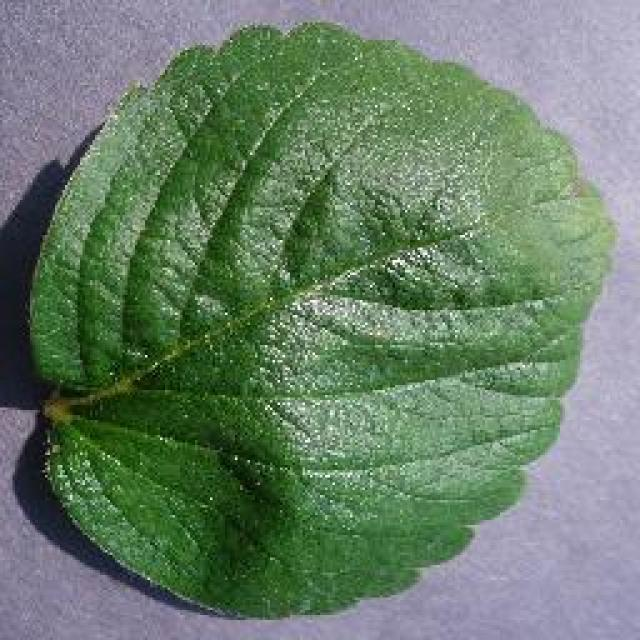Strawberry___healthy: (5, 0, 627, 640)
